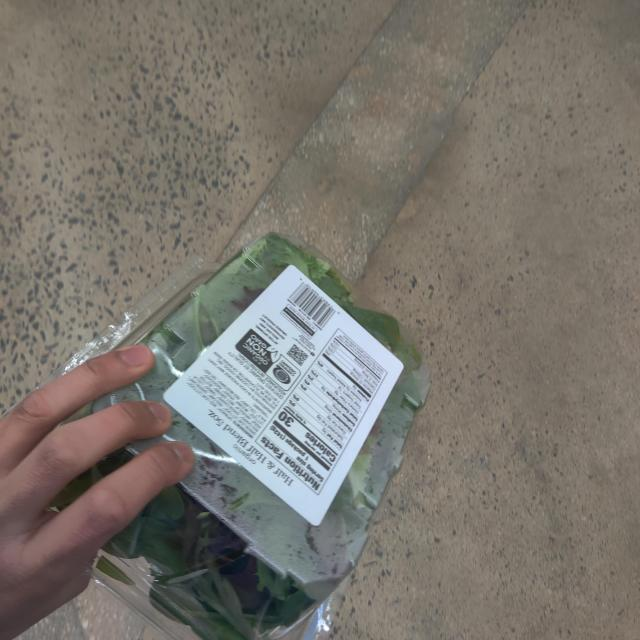Salad: (54, 237, 427, 640)
